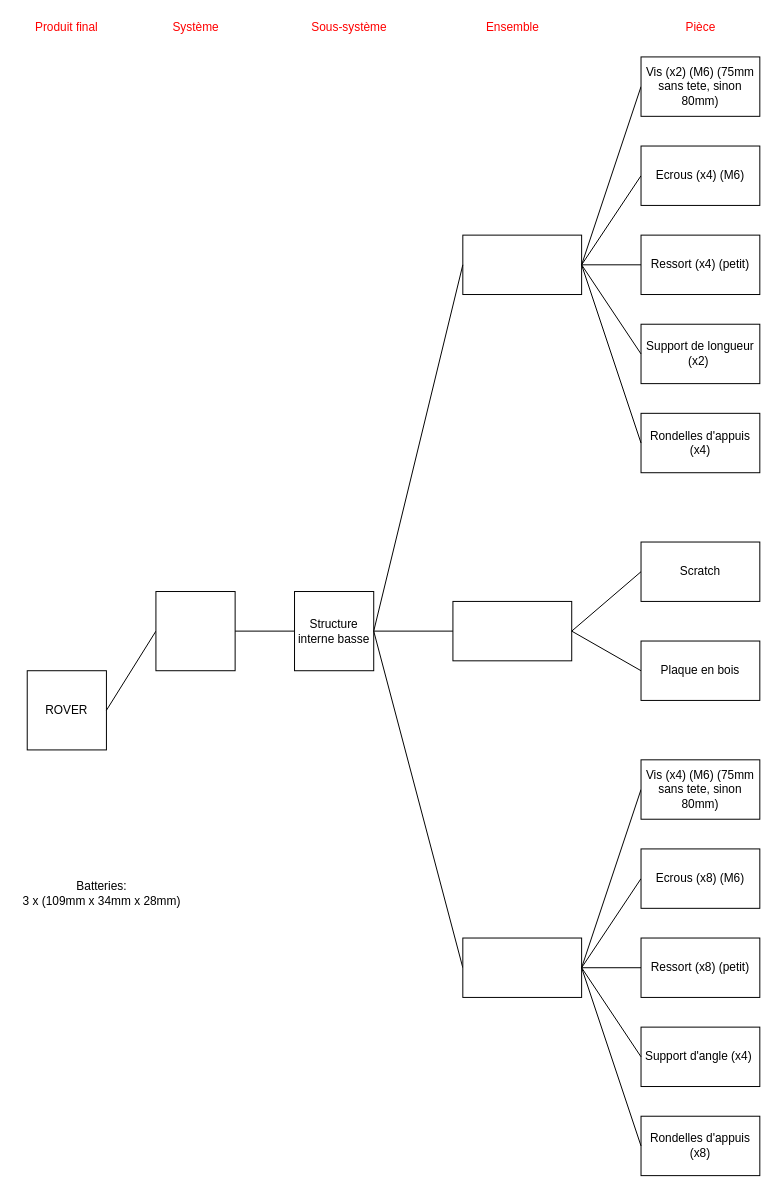
This 777x1193 diagram has some shape labels left out. The shapes that lost their labels are listed below. From the top down, each one's centre as x and y in pixels, then its label:
the point at 522,264: Fixation suspension de longueur (x2)
the point at 195,631: Structure interne
the point at 512,630: Support composants
the point at 522,967: Fixation suspension d'angle (x4)
